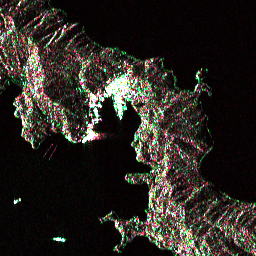ship: (79, 130, 97, 144), (52, 235, 67, 245), (11, 196, 24, 205)
